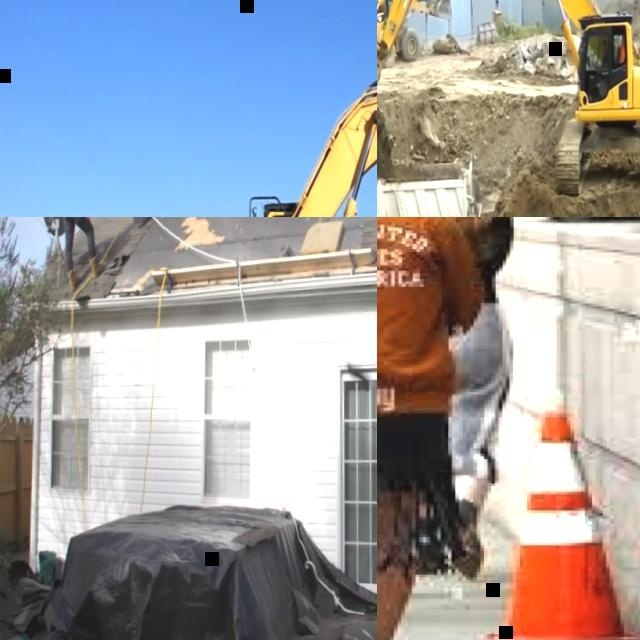NO-Mask: (601, 48, 604, 55)
NO-Safety Vest: (377, 217, 456, 405), (410, 217, 501, 300), (600, 54, 608, 70), (600, 41, 607, 49)
Person: (377, 217, 523, 576), (377, 217, 484, 640), (53, 217, 105, 290), (585, 41, 609, 101)
Safety Cone: (481, 407, 640, 640)
machinery: (126, 0, 377, 217), (377, 0, 640, 204), (377, 0, 451, 64)
